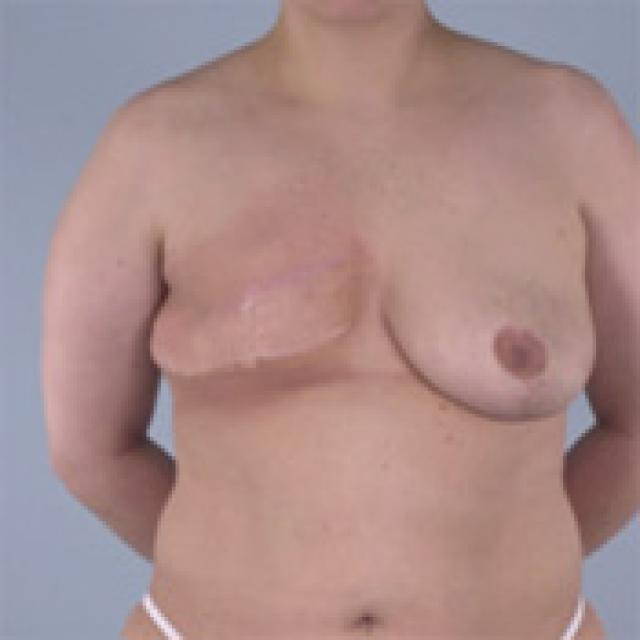Seno herido: (143, 222, 370, 400)
Seno ileso: (374, 208, 604, 442)
